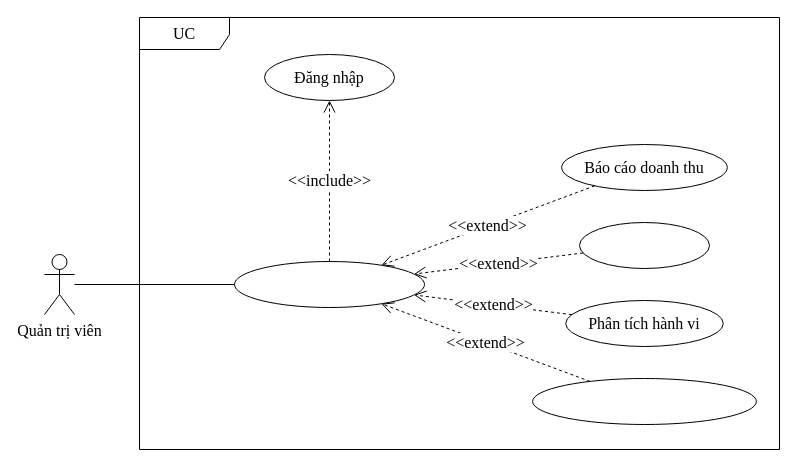
The diagram is 797 pixels wide and 467 high, and some of its shapes have lost their labels. Here are the shapes that lost their labels. From the top down, the centre of each, then its label:
At point (644, 245): "Xem biểu đồ".
At point (329, 284): "Xem báo cáo thống kê".
At point (644, 401): "Quản lý tài chính, hoàn tiền".
